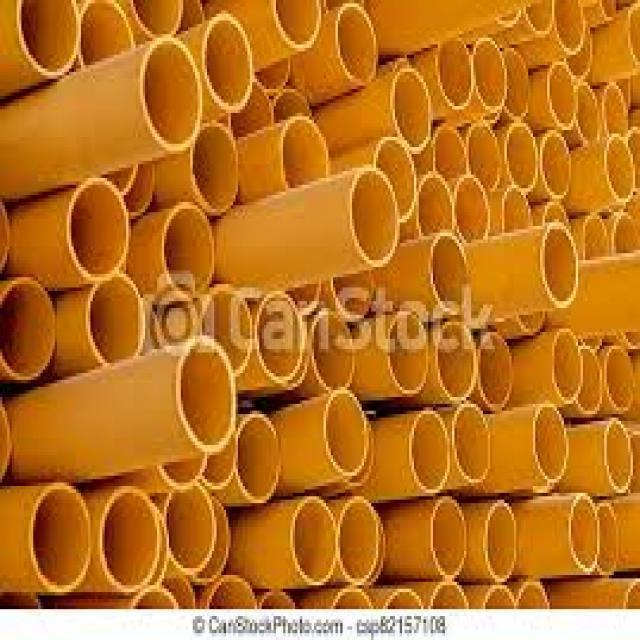pipe: (97, 487, 161, 594), (142, 39, 201, 152), (28, 485, 90, 592), (178, 341, 236, 450), (68, 180, 128, 284), (0, 279, 55, 379), (87, 275, 144, 363), (18, 0, 79, 81), (163, 204, 215, 297), (349, 168, 398, 265), (165, 485, 216, 574), (204, 16, 252, 109), (255, 293, 304, 382), (191, 122, 238, 214), (202, 287, 252, 373), (291, 497, 336, 586), (236, 416, 281, 501), (324, 389, 367, 476), (337, 499, 379, 584), (311, 311, 354, 394), (410, 410, 451, 493), (336, 4, 377, 85), (375, 140, 416, 221), (388, 313, 429, 394), (392, 68, 430, 152), (282, 119, 328, 188), (430, 236, 470, 313), (80, 2, 130, 63), (436, 323, 475, 401), (453, 405, 491, 483), (542, 224, 578, 306), (430, 499, 467, 578), (533, 406, 570, 482), (436, 32, 472, 109), (478, 333, 512, 408), (473, 36, 506, 113), (486, 502, 517, 583), (467, 119, 501, 191), (455, 174, 488, 244), (417, 173, 453, 236), (570, 495, 599, 571), (275, 1, 320, 48), (505, 124, 537, 190), (552, 331, 581, 403), (604, 136, 636, 201), (332, 270, 374, 319), (605, 420, 633, 492), (540, 135, 571, 197), (433, 124, 465, 184), (605, 346, 634, 411), (133, 0, 181, 38), (548, 62, 575, 129), (504, 50, 529, 117), (578, 347, 601, 415), (598, 506, 620, 573), (576, 84, 602, 140), (555, 0, 583, 51), (603, 84, 628, 137), (503, 184, 530, 232), (584, 216, 607, 264), (523, 0, 553, 34), (614, 215, 639, 252), (545, 204, 569, 224)
